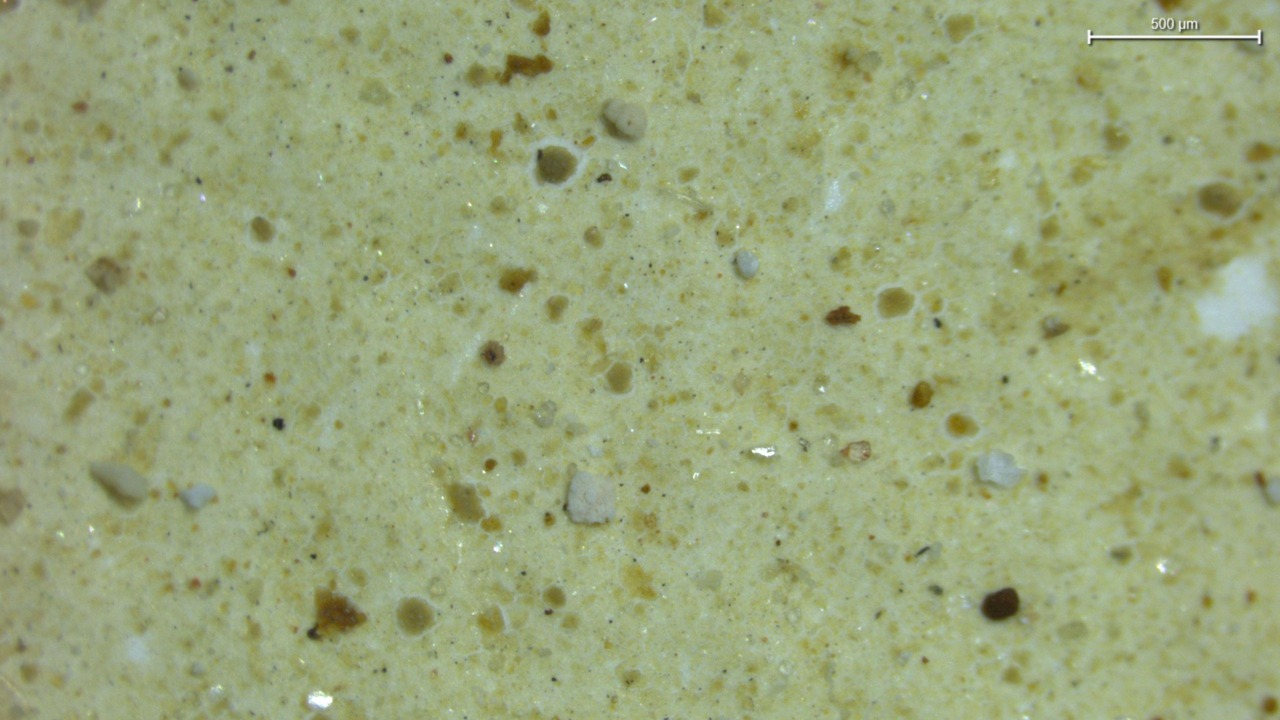microplastic_fragment: (565, 472, 615, 524), (91, 463, 148, 502), (602, 99, 646, 141), (977, 451, 1024, 487), (180, 484, 215, 509), (733, 250, 759, 279), (750, 446, 776, 458)
